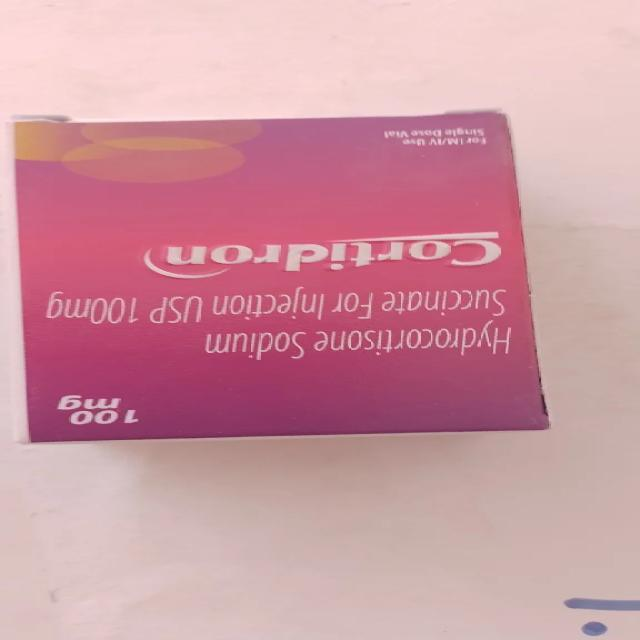drug-name: (141, 231, 504, 280)
